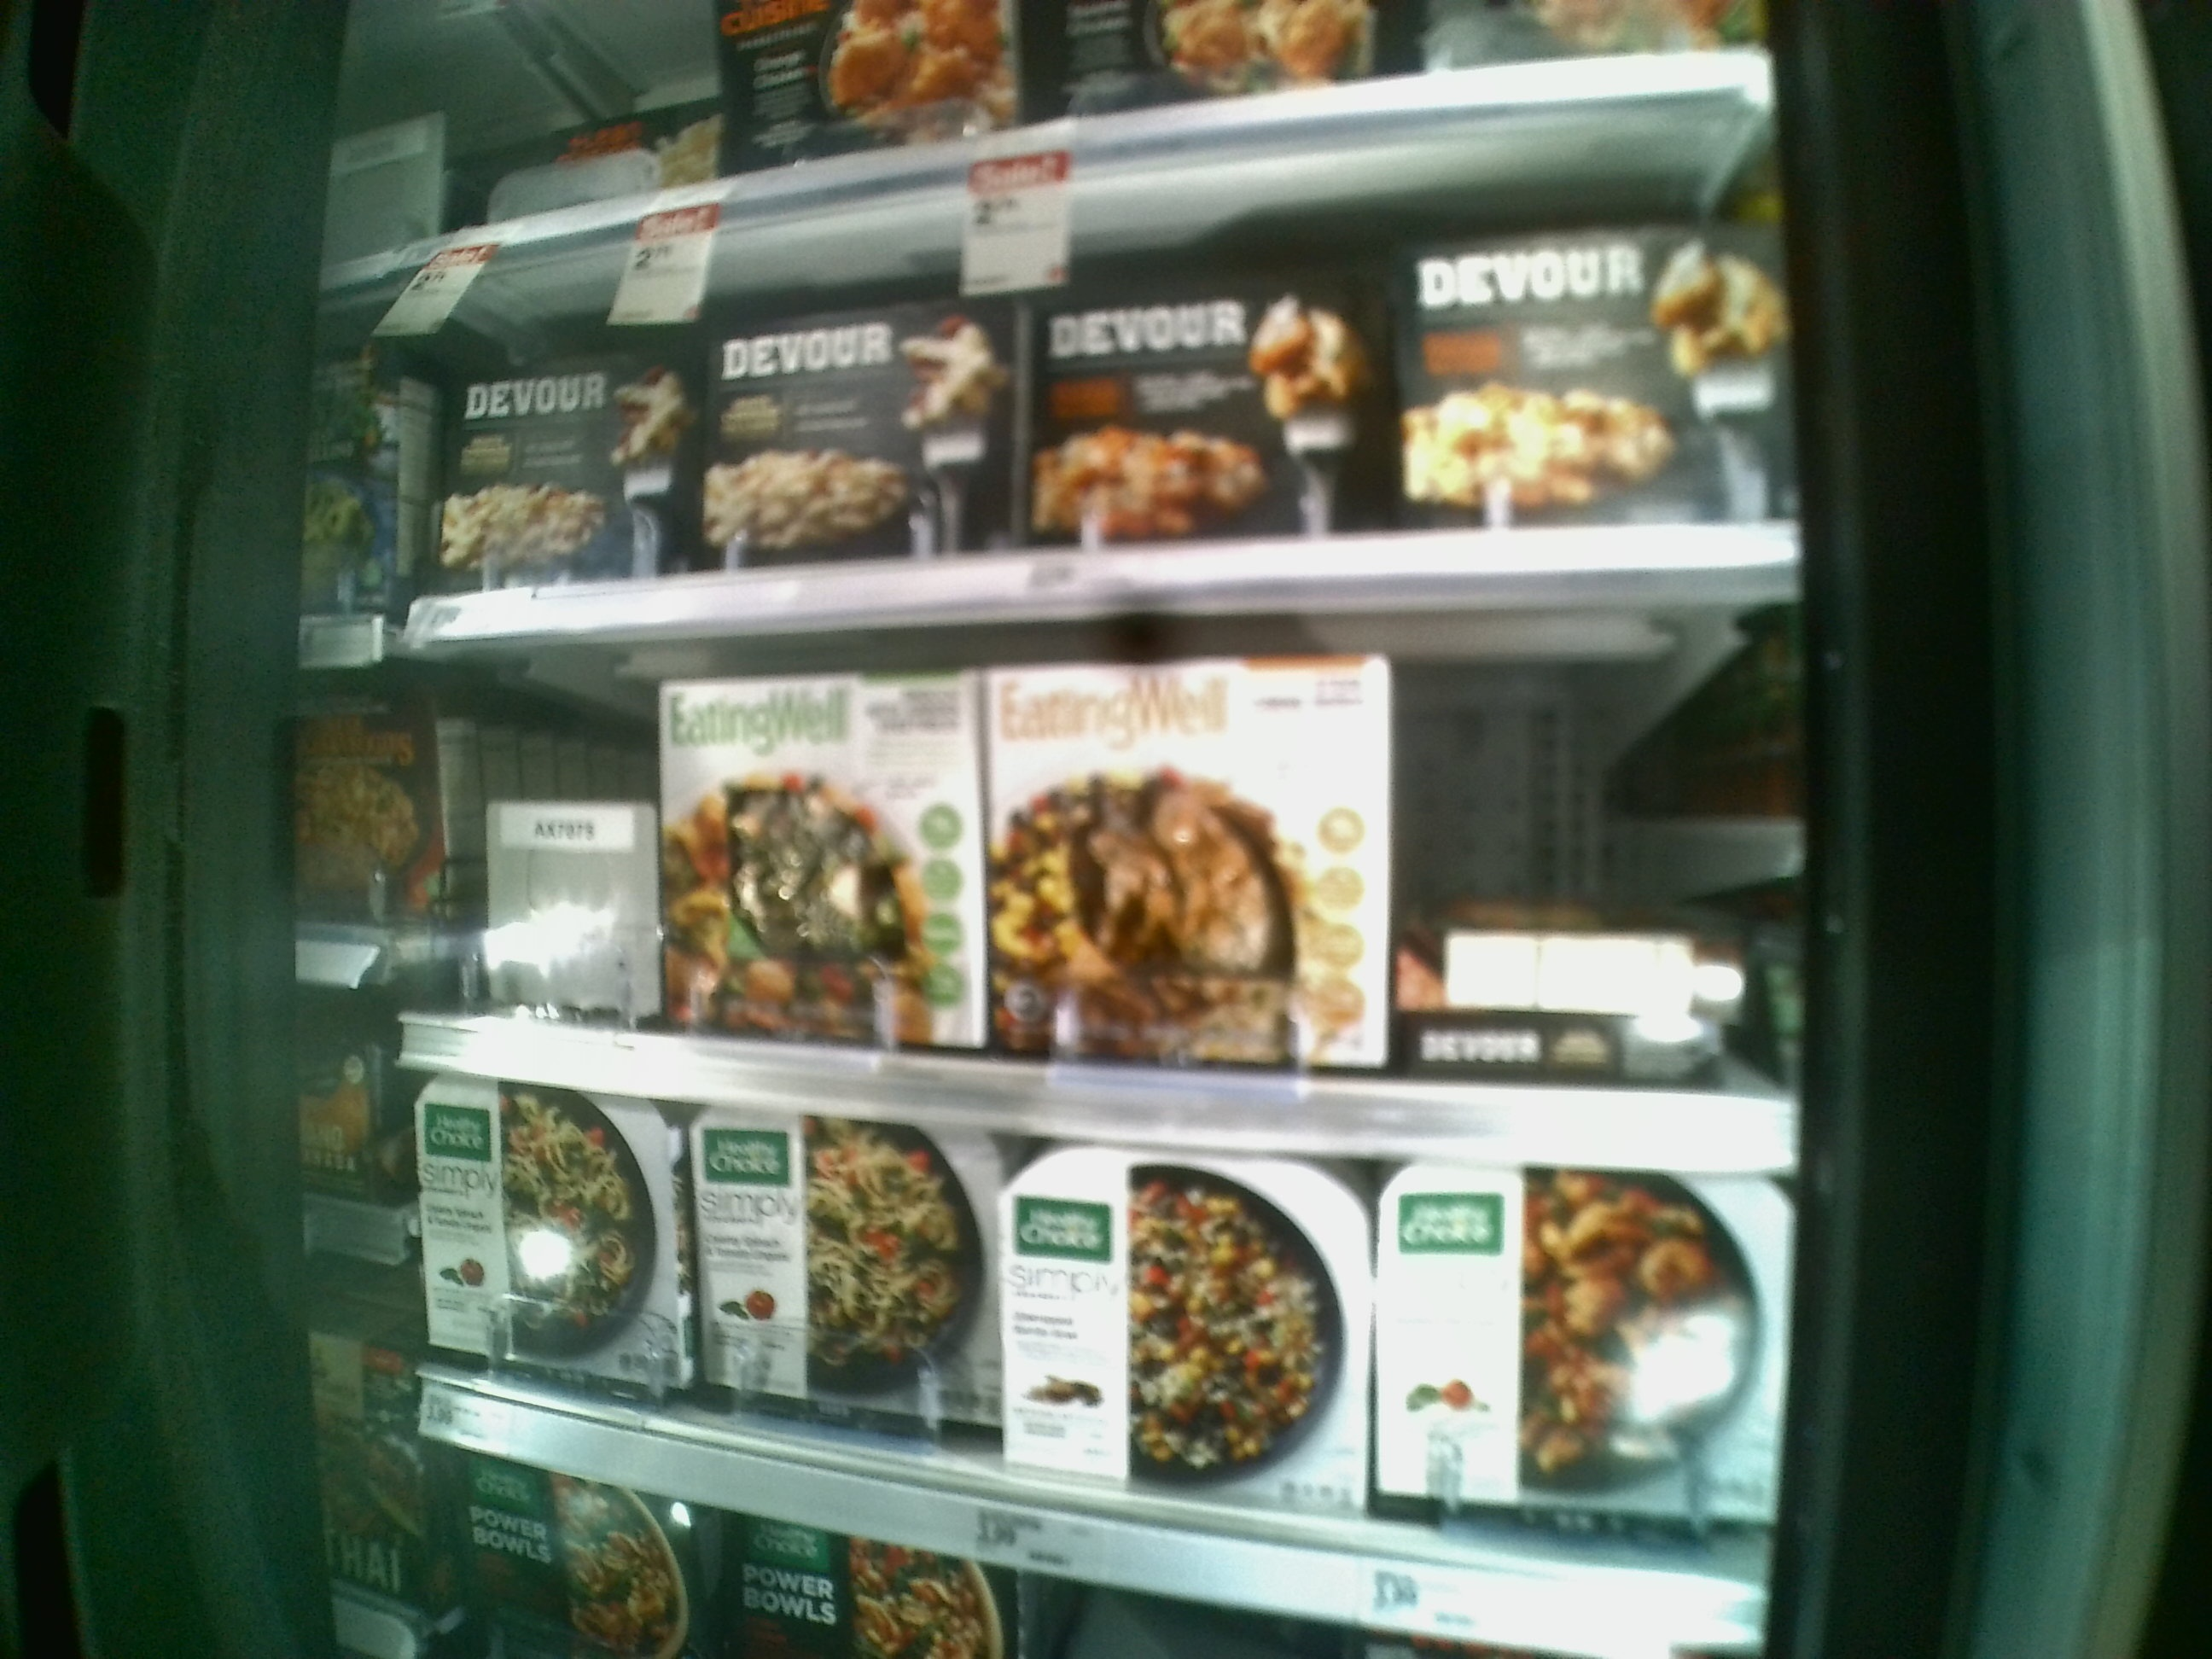shelf: (387, 575, 1804, 1166)
